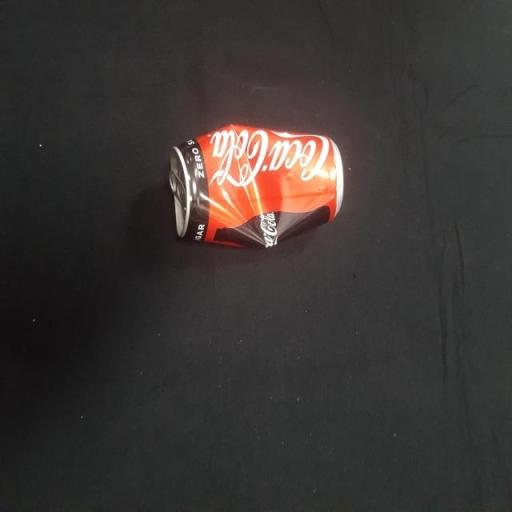metal: (150, 116, 364, 259)
